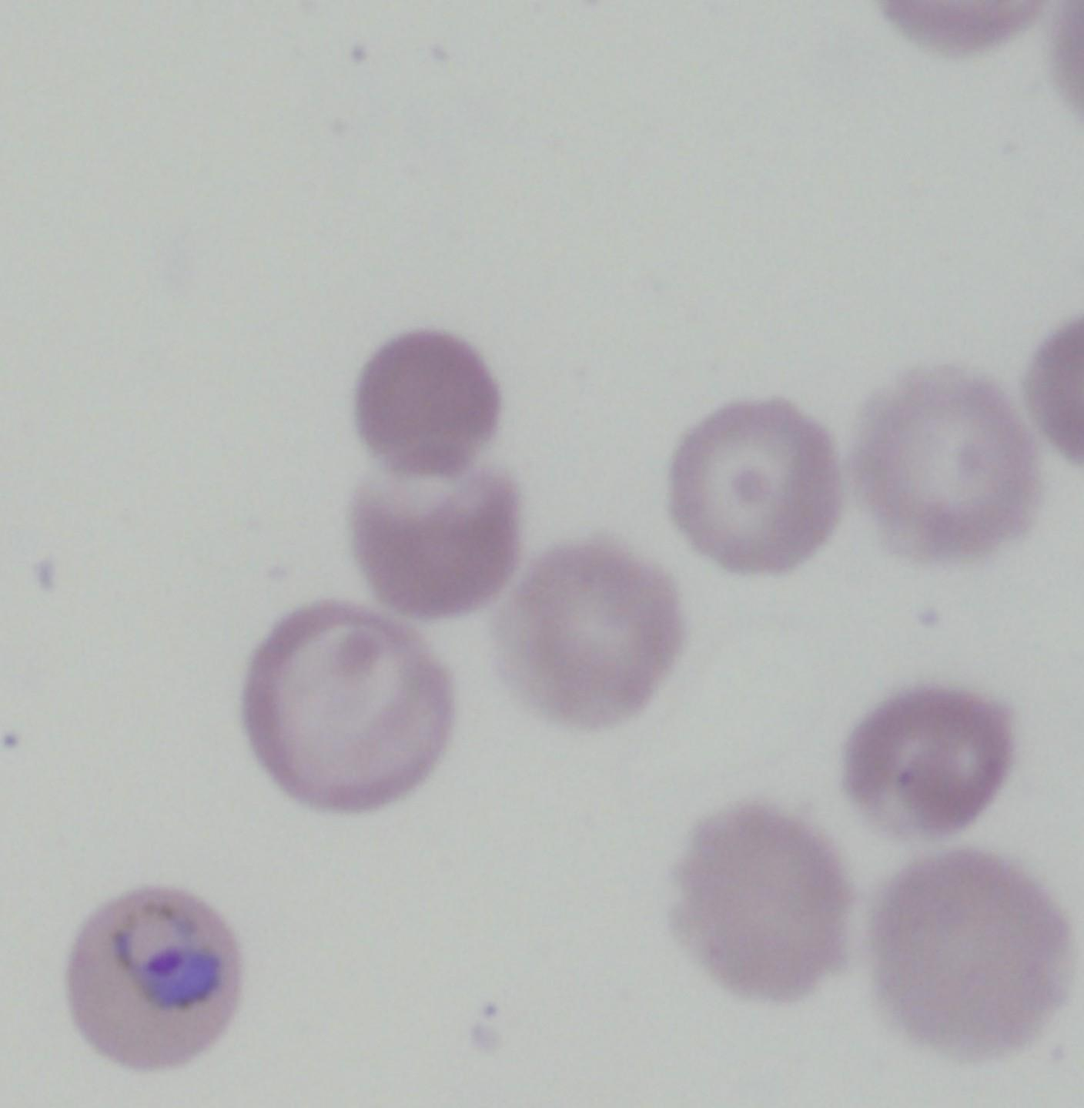Infected: (69, 885, 235, 1073)
Uninfected: (243, 601, 452, 810), (872, 855, 1062, 1055), (491, 539, 681, 729), (674, 805, 857, 998), (870, 378, 1039, 559), (350, 441, 520, 619), (666, 403, 841, 575), (841, 690, 1014, 838), (354, 330, 493, 476)
